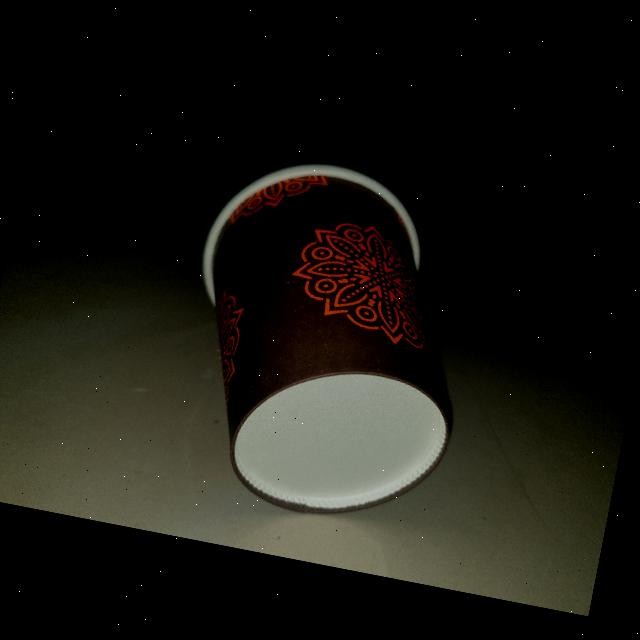trash: (151, 141, 500, 538)
